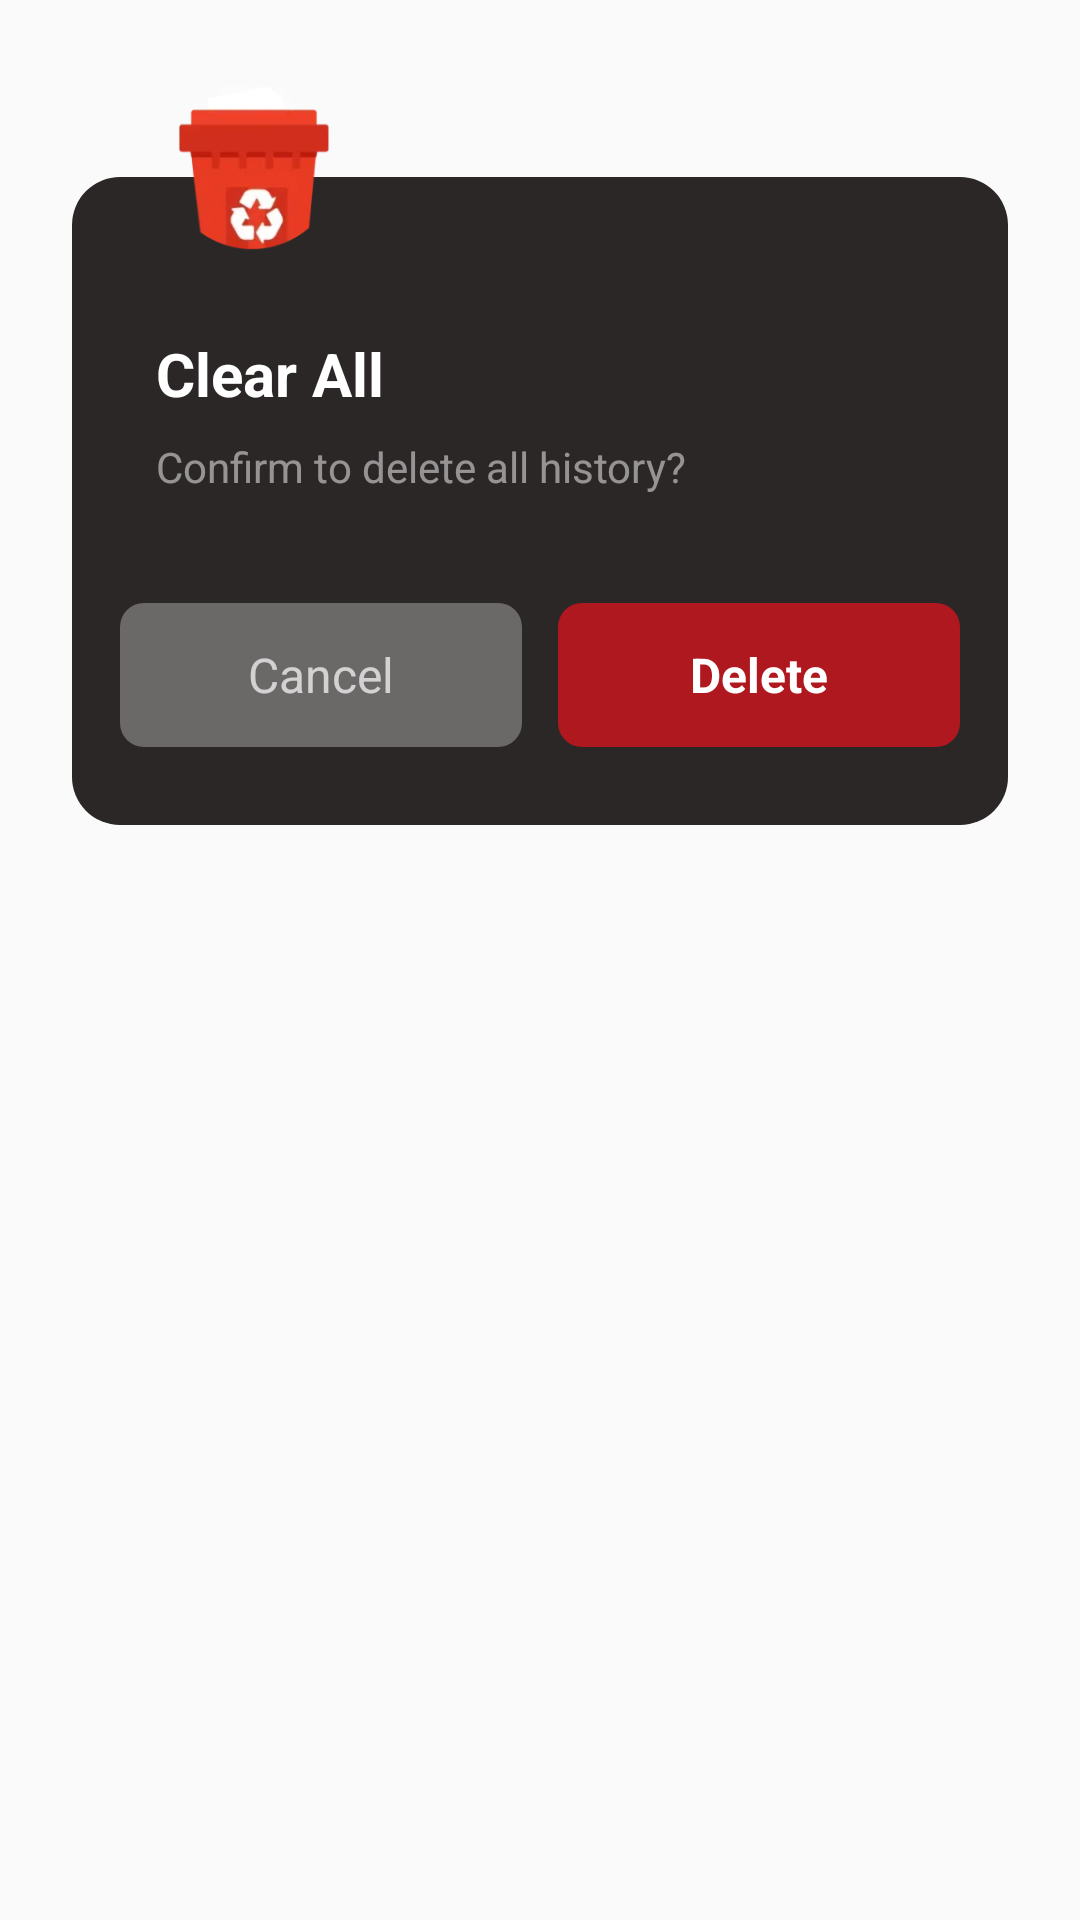

Where to tap for icons on this 1080w x 1920h app screen, as point (x, y):
delete history: point (252, 162)
